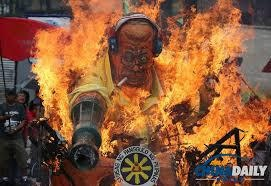fire: (26, 4, 264, 170)
